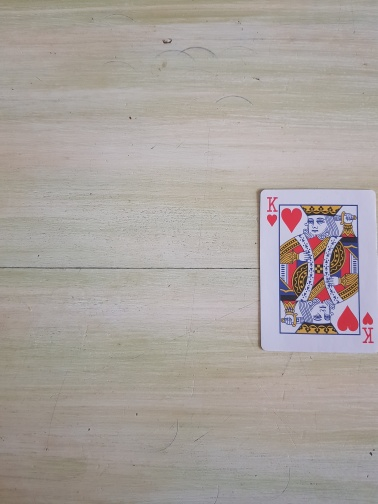king: (259, 189, 378, 354)
